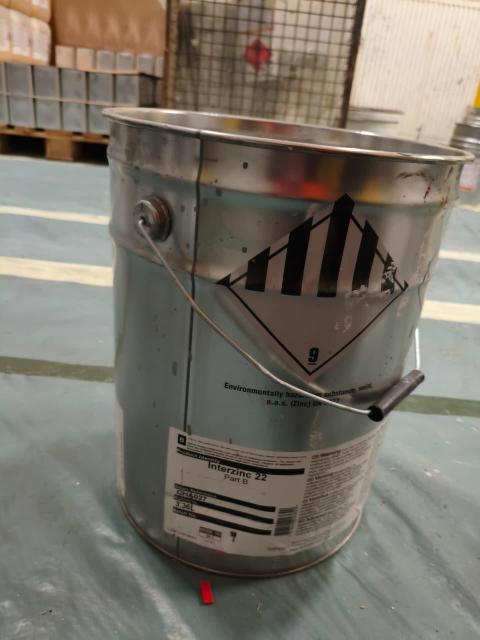Metal: (100, 97, 448, 580)
